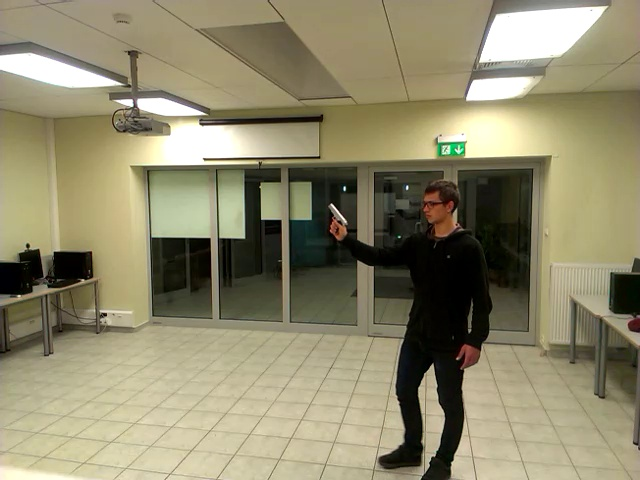gun: (321, 188, 353, 247)
